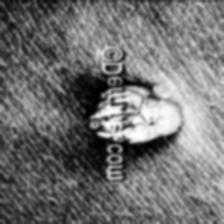Toxin: (124, 76, 184, 152), (83, 92, 106, 134)
